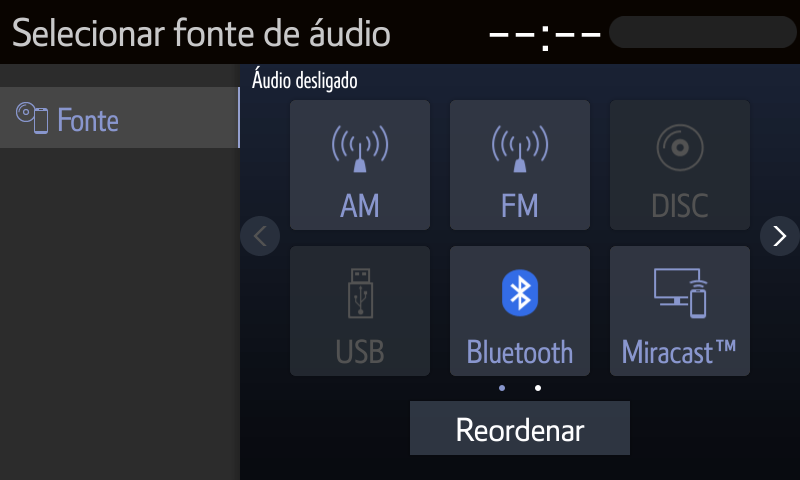touchPart: (445, 95, 593, 237), (607, 242, 753, 381), (446, 242, 591, 379), (290, 99, 433, 234), (405, 397, 633, 462), (759, 216, 800, 262)
untouchPart: (611, 99, 753, 233), (288, 247, 433, 378), (1, 85, 240, 149), (462, 11, 796, 53), (14, 15, 387, 51), (240, 214, 284, 259)
